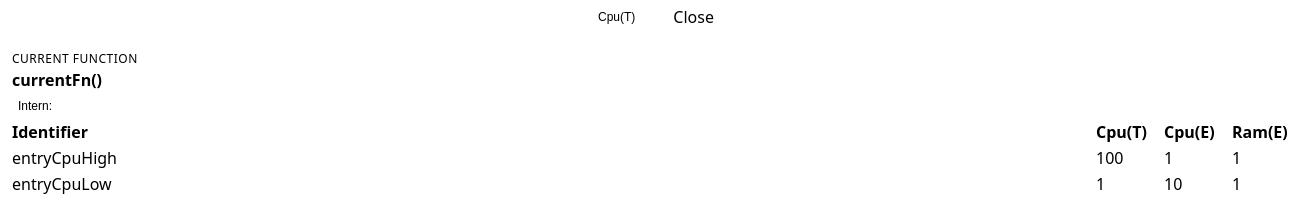
Test: EditorFileMethodReferenceView App UI › cycles sort metric and reorders intern entries based on selected metric
Click the button titled "Sort entries by Cpu(T), Cpu(E), Ram(E)": {"x": 617, "y": 17} [598, 10, 635, 24]
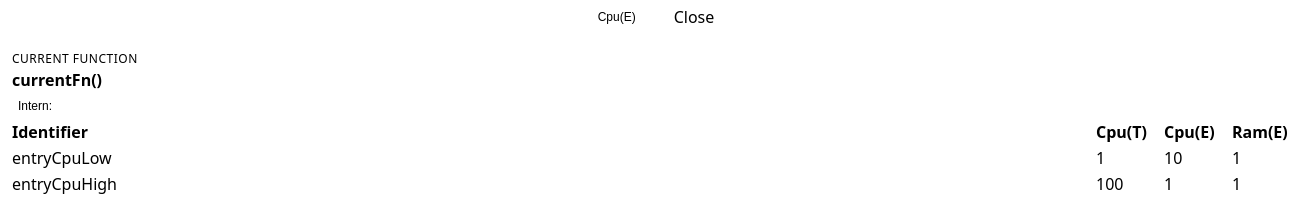
Result: the button titled "Sort entries by Cpu(T), Cpu(E), Ram(E)" is shown at [598, 10, 636, 24]
